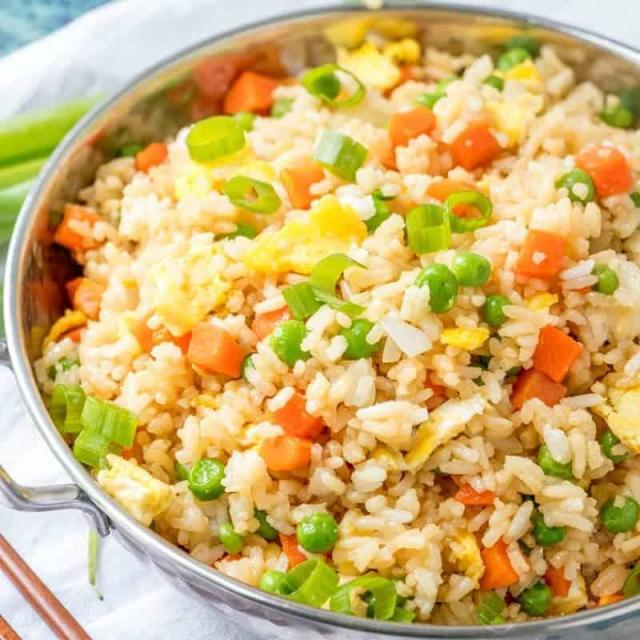Nasi Goreng: (37, 24, 638, 625)
